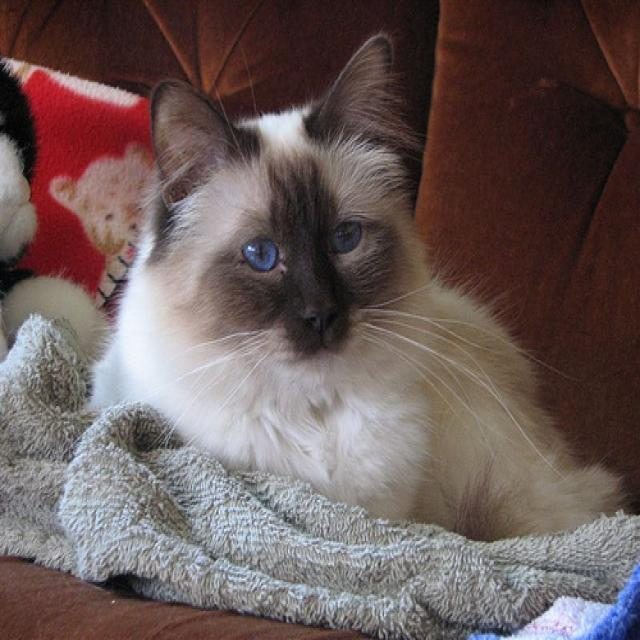Birman: (145, 25, 428, 427)
